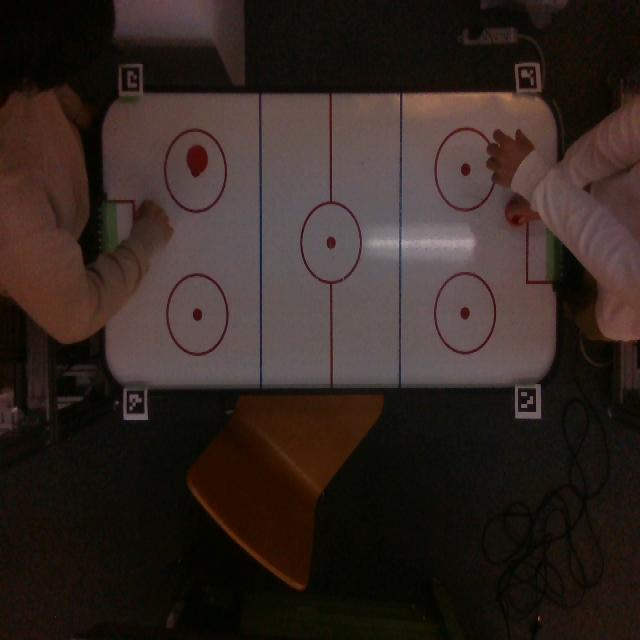puck: (186, 145, 208, 174)
